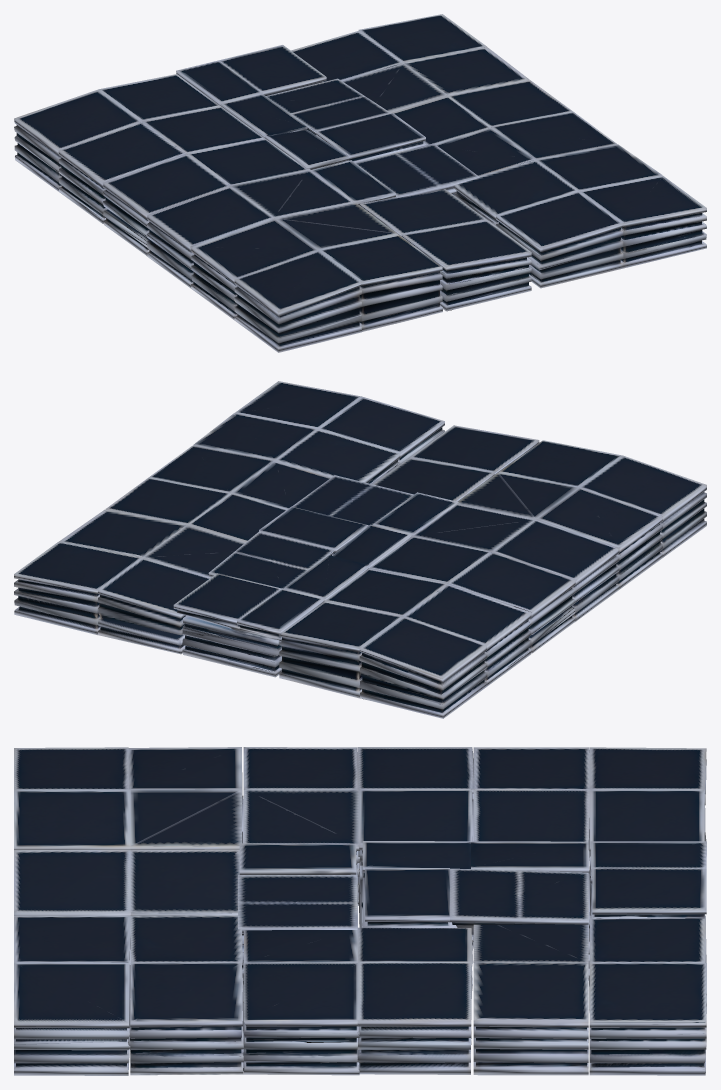
The model's file is 23-solar-panel-field.glb.
3 renders of one model, top to bottom at view 1: azimuth 30°, elevation 25°; view 2: azimuth 150°, elevation 25°; view 3: azimuth 270°, elevation 25°, orthographic. The views are drawn at different scales.
Parts seen in each view (by area): view 1: geometry_0; view 2: geometry_0; view 3: geometry_0.
Part boxes in pixels (x1,y1,x2,y2): geometry_0: [14, 14, 706, 352]; geometry_0: [14, 381, 706, 718]; geometry_0: [14, 747, 706, 1075].
Bounding box in the file's own units: 0.8892 × 0.1006 × 0.9512.
1 material, 1 textured.
